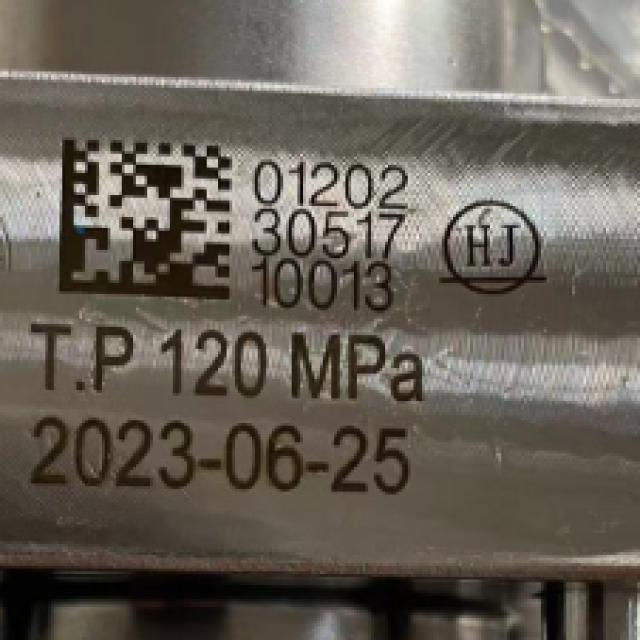dmc: (59, 138, 231, 300)
